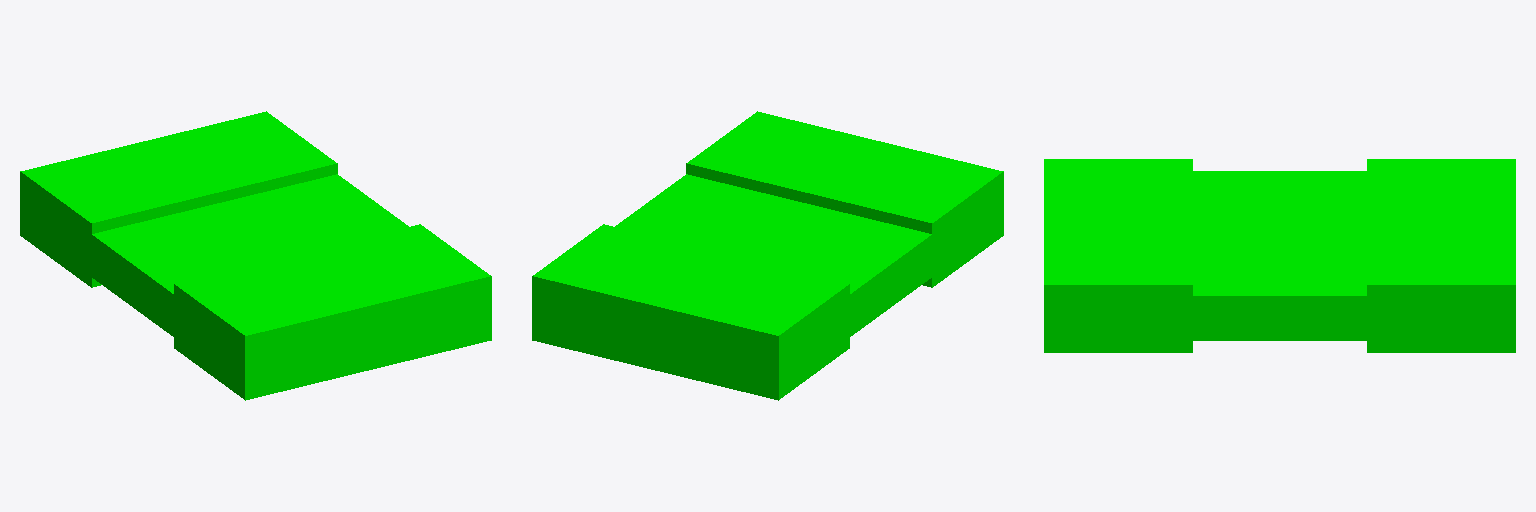
--- Facts derived from the render (not from the file) ---
Views: 3 orthographic renders of the robot side by side, from view 1: azimuth 30°, elevation 25°; view 2: azimuth 150°, elevation 25°; view 3: azimuth 270°, elevation 25°.
Model robot with 29 links and 28 joints (28 revolute), rooted at root, posed all joints at 0.
Links seen in each view (by area): view 1: 000, 000-121, 020-121, 030-121, 010-121, 010, 030, 020, 000-100, 000-110, 000-120, 000-101 (+16 smaller); view 2: 000, 000-120, 020-120, 030-120, 010-120, 010, 030, 020, 000-101, 000-100, 000-110, 000-111 (+16 smaller); view 3: 030, 010, 000, 020, 030-110, 030-120, 030-111, 030-121, 030-100, 030-101, 020-110, 020-120 (+16 smaller).
Link boxes in pixels (x1,y1,x2,y2): 000: (92, 219, 223, 336); 000-121: (222, 304, 306, 400); 020-121: (346, 274, 429, 370); 030-121: (407, 259, 491, 354); 010-121: (284, 289, 367, 384); 010: (153, 204, 285, 271); 030: (276, 174, 408, 241); 020: (215, 189, 347, 256); 000-100: (68, 191, 152, 287); 000-110: (44, 174, 127, 269); 000-120: (20, 157, 104, 252); 000-101: (174, 269, 259, 364); 000: (800, 219, 931, 336); 000-120: (717, 304, 801, 400); 020-120: (594, 274, 677, 370); 030-120: (532, 259, 616, 354); 010-120: (656, 289, 739, 384); 010: (738, 204, 870, 271); 030: (615, 174, 747, 241); 020: (676, 189, 808, 256); 000-101: (871, 191, 955, 287); 000-100: (764, 269, 849, 364); 000-110: (741, 287, 825, 382); 000-111: (896, 174, 979, 269); 030: (1193, 265, 1366, 340); 010: (1193, 202, 1366, 233); 000: (1193, 171, 1366, 201); 020: (1193, 234, 1366, 264); 030-110: (1416, 254, 1465, 352); 030-120: (1466, 254, 1515, 352); 030-111: (1094, 254, 1143, 352); 030-121: (1044, 254, 1093, 352); 030-100: (1367, 254, 1415, 352); 030-101: (1144, 254, 1192, 352); 020-110: (1416, 222, 1465, 253); 020-120: (1466, 222, 1515, 253).
Bounding box of the posed robot: 1.2 × 1.9 × 0.3 m (x, y, z).
Geometry: primitives only (box / cylinder / sphere), no mesh files.

robot.urdf — robot:
<robot name = "robot">
    <link name="root">
        <inertial>
            <origin xyz="0.0 0.0 1.5" rpy="0 0 0"/>
            <mass value="1" />
            <inertia ixx="100" ixy="0" ixz="0" iyy="100" iyz="0" izz="100" />
        </inertial>
        <visual>
            <origin xyz="0.0 0.0 1.5" rpy="0 0 0"/>
            <geometry>
                <box size="0 0 0.0001" />
            </geometry>
            <material name="Green">
                <color rgba="0 1.0 0.0 1.0"/>
            </material>
        </visual>
        <collision>
            <origin xyz="0.0 0.0 1.5" rpy="0 0 0"/>
            <geometry>
                <box size="0 0 0.0001" />
            </geometry>
        </collision>
    </link>
    <joint name="root_000" type="revolute">
       <parent link="root"/>
       <child  link="000"/>
       <origin rpy="0 0 0" xyz="0.0 0.0 1.5" />
     <axis xyz="1 0 0"/>
       <limit effort="0.0" lower="-3.14159" upper="3.14159" velocity="0.0"/>
    </joint>
    <link name="000">
        <inertial>
            <origin xyz="0.15 0.0 0.0" rpy="0 0 0"/>
            <mass value="1" />
            <inertia ixx="100" ixy="0" ixz="0" iyy="100" iyz="0" izz="100" />
        </inertial>
        <visual>
            <origin xyz="0.15 0.0 0.0" rpy="0 0 0"/>
            <geometry>
                <box size="0.3 0.7 0.2" />
            </geometry>
            <material name="Green">
                <color rgba="0 1.0 0.0 1.0"/>
            </material>
        </visual>
        <collision>
            <origin xyz="0.15 0.0 0.0" rpy="0 0 0"/>
            <geometry>
                <box size="0.3 0.7 0.2" />
            </geometry>
        </collision>
    </link>
    <joint name="000_010" type="revolute">
       <parent link="000"/>
       <child  link="010"/>
       <origin rpy="0 0 0" xyz="0.3 0.0 -0.0" />
     <axis xyz="1 0 0"/>
       <limit effort="0.0" lower="-3.14159" upper="3.14159" velocity="0.0"/>
    </joint>
    <link name="010">
        <inertial>
            <origin xyz="0.15 0.0 -0.0" rpy="0 0 0"/>
            <mass value="1" />
            <inertia ixx="100" ixy="0" ixz="0" iyy="100" iyz="0" izz="100" />
        </inertial>
        <visual>
            <origin xyz="0.15 0.0 -0.0" rpy="0 0 0"/>
            <geometry>
                <box size="0.3 0.7 0.2" />
            </geometry>
            <material name="Green">
                <color rgba="0 1.0 0.0 1.0"/>
            </material>
        </visual>
        <collision>
            <origin xyz="0.15 0.0 -0.0" rpy="0 0 0"/>
            <geometry>
                <box size="0.3 0.7 0.2" />
            </geometry>
        </collision>
    </link>
    <joint name="010_020" type="revolute">
       <parent link="010"/>
       <child  link="020"/>
       <origin rpy="0 0 0" xyz="0.3 0.0 -0.0" />
     <axis xyz="1 0 0"/>
       <limit effort="0.0" lower="-3.14159" upper="3.14159" velocity="0.0"/>
    </joint>
    <link name="020">
        <inertial>
            <origin xyz="0.15 0.0 -0.0" rpy="0 0 0"/>
            <mass value="1" />
            <inertia ixx="100" ixy="0" ixz="0" iyy="100" iyz="0" izz="100" />
        </inertial>
        <visual>
            <origin xyz="0.15 0.0 -0.0" rpy="0 0 0"/>
            <geometry>
                <box size="0.3 0.7 0.2" />
            </geometry>
            <material name="Green">
                <color rgba="0 1.0 0.0 1.0"/>
            </material>
        </visual>
        <collision>
            <origin xyz="0.15 0.0 -0.0" rpy="0 0 0"/>
            <geometry>
                <box size="0.3 0.7 0.2" />
            </geometry>
        </collision>
    </link>
    <joint name="020_030" type="revolute">
       <parent link="020"/>
       <child  link="030"/>
       <origin rpy="0 0 0" xyz="0.3 0.0 -0.0" />
     <axis xyz="1 0 0"/>
       <limit effort="0.0" lower="-3.14159" upper="3.14159" velocity="0.0"/>
    </joint>
    <link name="030">
        <inertial>
            <origin xyz="0.15 0.0 -0.0" rpy="0 0 0"/>
            <mass value="1" />
            <inertia ixx="100" ixy="0" ixz="0" iyy="100" iyz="0" izz="100" />
        </inertial>
        <visual>
            <origin xyz="0.15 0.0 -0.0" rpy="0 0 0"/>
            <geometry>
                <box size="0.3 0.7 0.2" />
            </geometry>
            <material name="Green">
                <color rgba="0 1.0 0.0 1.0"/>
            </material>
        </visual>
        <collision>
            <origin xyz="0.15 0.0 -0.0" rpy="0 0 0"/>
            <geometry>
                <box size="0.3 0.7 0.2" />
            </geometry>
        </collision>
    </link>
    <joint name="030_030-100" type="revolute">
       <parent link="030"/>
       <child  link="030-100"/>
       <origin rpy="0 0 0" xyz="0.15 0.35 -0.0" />
     <axis xyz="0 1 0"/>
       <limit effort="0.0" lower="-3.14159" upper="3.14159" velocity="0.0"/>
    </joint>
    <link name="030-100">
        <inertial>
            <origin xyz="0.0 0.1 -0.0" rpy="0 0 0"/>
            <mass value="1" />
            <inertia ixx="100" ixy="0" ixz="0" iyy="100" iyz="0" izz="100" />
        </inertial>
        <visual>
            <origin xyz="0.0 0.1 -0.0" rpy="0 0 0"/>
            <geometry>
                <box size="0.3 0.2 0.3" />
            </geometry>
            <material name="Green">
                <color rgba="0 1.0 0.0 1.0"/>
            </material>
        </visual>
        <collision>
            <origin xyz="0.0 0.1 -0.0" rpy="0 0 0"/>
            <geometry>
                <box size="0.3 0.2 0.3" />
            </geometry>
        </collision>
    </link>
    <joint name="030-100_030-110" type="revolute">
       <parent link="030-100"/>
       <child  link="030-110"/>
       <origin rpy="0 0 0" xyz="0.0 0.2 -0.0" />
     <axis xyz="0 1 0"/>
       <limit effort="0.0" lower="-3.14159" upper="3.14159" velocity="0.0"/>
    </joint>
    <link name="030-110">
        <inertial>
            <origin xyz="0.0 0.1 -0.0" rpy="0 0 0"/>
            <mass value="1" />
            <inertia ixx="100" ixy="0" ixz="0" iyy="100" iyz="0" izz="100" />
        </inertial>
        <visual>
            <origin xyz="0.0 0.1 -0.0" rpy="0 0 0"/>
            <geometry>
                <box size="0.3 0.2 0.3" />
            </geometry>
            <material name="Green">
                <color rgba="0 1.0 0.0 1.0"/>
            </material>
        </visual>
        <collision>
            <origin xyz="0.0 0.1 -0.0" rpy="0 0 0"/>
            <geometry>
                <box size="0.3 0.2 0.3" />
            </geometry>
        </collision>
    </link>
    <joint name="030-110_030-120" type="revolute">
       <parent link="030-110"/>
       <child  link="030-120"/>
       <origin rpy="0 0 0" xyz="0.0 0.2 -0.0" />
     <axis xyz="0 1 0"/>
       <limit effort="0.0" lower="-3.14159" upper="3.14159" velocity="0.0"/>
    </joint>
    <link name="030-120">
        <inertial>
            <origin xyz="0.0 0.1 -0.0" rpy="0 0 0"/>
            <mass value="1" />
            <inertia ixx="100" ixy="0" ixz="0" iyy="100" iyz="0" izz="100" />
        </inertial>
        <visual>
            <origin xyz="0.0 0.1 -0.0" rpy="0 0 0"/>
            <geometry>
                <box size="0.3 0.2 0.3" />
            </geometry>
            <material name="Green">
                <color rgba="0 1.0 0.0 1.0"/>
            </material>
        </visual>
        <collision>
            <origin xyz="0.0 0.1 -0.0" rpy="0 0 0"/>
            <geometry>
                <box size="0.3 0.2 0.3" />
            </geometry>
        </collision>
    </link>
    <joint name="030_030-101" type="revolute">
       <parent link="030"/>
       <child  link="030-101"/>
       <origin rpy="0 0 0" xyz="0.15 -0.35 -0.0" />
     <axis xyz="0 1 0"/>
       <limit effort="0.0" lower="-3.14159" upper="3.14159" velocity="0.0"/>
    </joint>
    <link name="030-101">
        <inertial>
            <origin xyz="0.0 -0.1 -0.0" rpy="0 0 0"/>
            <mass value="1" />
            <inertia ixx="100" ixy="0" ixz="0" iyy="100" iyz="0" izz="100" />
        </inertial>
        <visual>
            <origin xyz="0.0 -0.1 -0.0" rpy="0 0 0"/>
            <geometry>
                <box size="0.3 0.2 0.3" />
            </geometry>
            <material name="Green">
                <color rgba="0 1.0 0.0 1.0"/>
            </material>
        </visual>
        <collision>
            <origin xyz="0.0 -0.1 -0.0" rpy="0 0 0"/>
            <geometry>
                <box size="0.3 0.2 0.3" />
            </geometry>
        </collision>
    </link>
    <joint name="030-101_030-111" type="revolute">
       <parent link="030-101"/>
       <child  link="030-111"/>
       <origin rpy="0 0 0" xyz="0.0 -0.2 -0.0" />
     <axis xyz="0 1 0"/>
       <limit effort="0.0" lower="-3.14159" upper="3.14159" velocity="0.0"/>
    </joint>
    <link name="030-111">
        <inertial>
            <origin xyz="0.0 -0.1 -0.0" rpy="0 0 0"/>
            <mass value="1" />
            <inertia ixx="100" ixy="0" ixz="0" iyy="100" iyz="0" izz="100" />
        </inertial>
        <visual>
            <origin xyz="0.0 -0.1 -0.0" rpy="0 0 0"/>
            <geometry>
                <box size="0.3 0.2 0.3" />
            </geometry>
            <material name="Green">
                <color rgba="0 1.0 0.0 1.0"/>
            </material>
        </visual>
        <collision>
            <origin xyz="0.0 -0.1 -0.0" rpy="0 0 0"/>
            <geometry>
                <box size="0.3 0.2 0.3" />
            </geometry>
        </collision>
    </link>
    <joint name="030-111_030-121" type="revolute">
       <parent link="030-111"/>
       <child  link="030-121"/>
       <origin rpy="0 0 0" xyz="0.0 -0.2 -0.0" />
     <axis xyz="0 1 0"/>
       <limit effort="0.0" lower="-3.14159" upper="3.14159" velocity="0.0"/>
    </joint>
    <link name="030-121">
        <inertial>
            <origin xyz="0.0 -0.1 -0.0" rpy="0 0 0"/>
            <mass value="1" />
            <inertia ixx="100" ixy="0" ixz="0" iyy="100" iyz="0" izz="100" />
        </inertial>
        <visual>
            <origin xyz="0.0 -0.1 -0.0" rpy="0 0 0"/>
            <geometry>
                <box size="0.3 0.2 0.3" />
            </geometry>
            <material name="Green">
                <color rgba="0 1.0 0.0 1.0"/>
            </material>
        </visual>
        <collision>
            <origin xyz="0.0 -0.1 -0.0" rpy="0 0 0"/>
            <geometry>
                <box size="0.3 0.2 0.3" />
            </geometry>
        </collision>
    </link>
    <joint name="020_020-100" type="revolute">
       <parent link="020"/>
       <child  link="020-100"/>
       <origin rpy="0 0 0" xyz="0.15 0.35 -0.0" />
     <axis xyz="0 1 0"/>
       <limit effort="0.0" lower="-3.14159" upper="3.14159" velocity="0.0"/>
    </joint>
    <link name="020-100">
        <inertial>
            <origin xyz="0.0 0.1 -0.0" rpy="0 0 0"/>
            <mass value="1" />
            <inertia ixx="100" ixy="0" ixz="0" iyy="100" iyz="0" izz="100" />
        </inertial>
        <visual>
            <origin xyz="0.0 0.1 -0.0" rpy="0 0 0"/>
            <geometry>
                <box size="0.3 0.2 0.3" />
            </geometry>
            <material name="Green">
                <color rgba="0 1.0 0.0 1.0"/>
            </material>
        </visual>
        <collision>
            <origin xyz="0.0 0.1 -0.0" rpy="0 0 0"/>
            <geometry>
                <box size="0.3 0.2 0.3" />
            </geometry>
        </collision>
    </link>
    <joint name="020-100_020-110" type="revolute">
       <parent link="020-100"/>
       <child  link="020-110"/>
       <origin rpy="0 0 0" xyz="0.0 0.2 -0.0" />
     <axis xyz="0 1 0"/>
       <limit effort="0.0" lower="-3.14159" upper="3.14159" velocity="0.0"/>
    </joint>
    <link name="020-110">
        <inertial>
            <origin xyz="0.0 0.1 -0.0" rpy="0 0 0"/>
            <mass value="1" />
            <inertia ixx="100" ixy="0" ixz="0" iyy="100" iyz="0" izz="100" />
        </inertial>
        <visual>
            <origin xyz="0.0 0.1 -0.0" rpy="0 0 0"/>
            <geometry>
                <box size="0.3 0.2 0.3" />
            </geometry>
            <material name="Green">
                <color rgba="0 1.0 0.0 1.0"/>
            </material>
        </visual>
        <collision>
            <origin xyz="0.0 0.1 -0.0" rpy="0 0 0"/>
            <geometry>
                <box size="0.3 0.2 0.3" />
            </geometry>
        </collision>
    </link>
    <joint name="020-110_020-120" type="revolute">
       <parent link="020-110"/>
       <child  link="020-120"/>
       <origin rpy="0 0 0" xyz="0.0 0.2 -0.0" />
     <axis xyz="0 1 0"/>
       <limit effort="0.0" lower="-3.14159" upper="3.14159" velocity="0.0"/>
    </joint>
    <link name="020-120">
        <inertial>
            <origin xyz="0.0 0.1 -0.0" rpy="0 0 0"/>
            <mass value="1" />
            <inertia ixx="100" ixy="0" ixz="0" iyy="100" iyz="0" izz="100" />
        </inertial>
        <visual>
            <origin xyz="0.0 0.1 -0.0" rpy="0 0 0"/>
            <geometry>
                <box size="0.3 0.2 0.3" />
            </geometry>
            <material name="Green">
                <color rgba="0 1.0 0.0 1.0"/>
            </material>
        </visual>
        <collision>
            <origin xyz="0.0 0.1 -0.0" rpy="0 0 0"/>
            <geometry>
                <box size="0.3 0.2 0.3" />
            </geometry>
        </collision>
    </link>
    <joint name="020_020-101" type="revolute">
       <parent link="020"/>
       <child  link="020-101"/>
       <origin rpy="0 0 0" xyz="0.15 -0.35 -0.0" />
     <axis xyz="0 1 0"/>
       <limit effort="0.0" lower="-3.14159" upper="3.14159" velocity="0.0"/>
    </joint>
    <link name="020-101">
        <inertial>
            <origin xyz="0.0 -0.1 -0.0" rpy="0 0 0"/>
            <mass value="1" />
            <inertia ixx="100" ixy="0" ixz="0" iyy="100" iyz="0" izz="100" />
        </inertial>
        <visual>
            <origin xyz="0.0 -0.1 -0.0" rpy="0 0 0"/>
            <geometry>
                <box size="0.3 0.2 0.3" />
            </geometry>
            <material name="Green">
                <color rgba="0 1.0 0.0 1.0"/>
            </material>
        </visual>
        <collision>
            <origin xyz="0.0 -0.1 -0.0" rpy="0 0 0"/>
            <geometry>
                <box size="0.3 0.2 0.3" />
            </geometry>
        </collision>
    </link>
    <joint name="020-101_020-111" type="revolute">
       <parent link="020-101"/>
       <child  link="020-111"/>
       <origin rpy="0 0 0" xyz="0.0 -0.2 -0.0" />
     <axis xyz="0 1 0"/>
       <limit effort="0.0" lower="-3.14159" upper="3.14159" velocity="0.0"/>
    </joint>
    <link name="020-111">
        <inertial>
            <origin xyz="0.0 -0.1 -0.0" rpy="0 0 0"/>
            <mass value="1" />
            <inertia ixx="100" ixy="0" ixz="0" iyy="100" iyz="0" izz="100" />
        </inertial>
        <visual>
            <origin xyz="0.0 -0.1 -0.0" rpy="0 0 0"/>
            <geometry>
                <box size="0.3 0.2 0.3" />
            </geometry>
            <material name="Green">
                <color rgba="0 1.0 0.0 1.0"/>
            </material>
        </visual>
        <collision>
            <origin xyz="0.0 -0.1 -0.0" rpy="0 0 0"/>
            <geometry>
                <box size="0.3 0.2 0.3" />
            </geometry>
        </collision>
    </link>
    <joint name="020-111_020-121" type="revolute">
       <parent link="020-111"/>
       <child  link="020-121"/>
       <origin rpy="0 0 0" xyz="0.0 -0.2 -0.0" />
     <axis xyz="0 1 0"/>
       <limit effort="0.0" lower="-3.14159" upper="3.14159" velocity="0.0"/>
    </joint>
    <link name="020-121">
        <inertial>
            <origin xyz="0.0 -0.1 -0.0" rpy="0 0 0"/>
            <mass value="1" />
            <inertia ixx="100" ixy="0" ixz="0" iyy="100" iyz="0" izz="100" />
        </inertial>
        <visual>
            <origin xyz="0.0 -0.1 -0.0" rpy="0 0 0"/>
            <geometry>
                <box size="0.3 0.2 0.3" />
            </geometry>
            <material name="Green">
                <color rgba="0 1.0 0.0 1.0"/>
            </material>
        </visual>
        <collision>
            <origin xyz="0.0 -0.1 -0.0" rpy="0 0 0"/>
            <geometry>
                <box size="0.3 0.2 0.3" />
            </geometry>
        </collision>
    </link>
    <joint name="010_010-100" type="revolute">
       <parent link="010"/>
       <child  link="010-100"/>
       <origin rpy="0 0 0" xyz="0.15 0.35 -0.0" />
     <axis xyz="0 1 0"/>
       <limit effort="0.0" lower="-3.14159" upper="3.14159" velocity="0.0"/>
    </joint>
    <link name="010-100">
        <inertial>
            <origin xyz="0.0 0.1 -0.0" rpy="0 0 0"/>
            <mass value="1" />
            <inertia ixx="100" ixy="0" ixz="0" iyy="100" iyz="0" izz="100" />
        </inertial>
        <visual>
            <origin xyz="0.0 0.1 -0.0" rpy="0 0 0"/>
            <geometry>
                <box size="0.3 0.2 0.3" />
            </geometry>
            <material name="Green">
                <color rgba="0 1.0 0.0 1.0"/>
            </material>
        </visual>
        <collision>
            <origin xyz="0.0 0.1 -0.0" rpy="0 0 0"/>
            <geometry>
                <box size="0.3 0.2 0.3" />
            </geometry>
        </collision>
    </link>
    <joint name="010-100_010-110" type="revolute">
       <parent link="010-100"/>
       <child  link="010-110"/>
       <origin rpy="0 0 0" xyz="0.0 0.2 -0.0" />
     <axis xyz="0 1 0"/>
       <limit effort="0.0" lower="-3.14159" upper="3.14159" velocity="0.0"/>
    </joint>
    <link name="010-110">
        <inertial>
            <origin xyz="0.0 0.1 -0.0" rpy="0 0 0"/>
            <mass value="1" />
            <inertia ixx="100" ixy="0" ixz="0" iyy="100" iyz="0" izz="100" />
        </inertial>
        <visual>
            <origin xyz="0.0 0.1 -0.0" rpy="0 0 0"/>
            <geometry>
                <box size="0.3 0.2 0.3" />
            </geometry>
            <material name="Green">
                <color rgba="0 1.0 0.0 1.0"/>
            </material>
        </visual>
        <collision>
            <origin xyz="0.0 0.1 -0.0" rpy="0 0 0"/>
            <geometry>
                <box size="0.3 0.2 0.3" />
            </geometry>
        </collision>
    </link>
    <joint name="010-110_010-120" type="revolute">
       <parent link="010-110"/>
       <child  link="010-120"/>
       <origin rpy="0 0 0" xyz="0.0 0.2 -0.0" />
     <axis xyz="0 1 0"/>
       <limit effort="0.0" lower="-3.14159" upper="3.14159" velocity="0.0"/>
    </joint>
    <link name="010-120">
        <inertial>
            <origin xyz="0.0 0.1 -0.0" rpy="0 0 0"/>
            <mass value="1" />
            <inertia ixx="100" ixy="0" ixz="0" iyy="100" iyz="0" izz="100" />
        </inertial>
        <visual>
            <origin xyz="0.0 0.1 -0.0" rpy="0 0 0"/>
            <geometry>
                <box size="0.3 0.2 0.3" />
            </geometry>
            <material name="Green">
                <color rgba="0 1.0 0.0 1.0"/>
            </material>
        </visual>
        <collision>
            <origin xyz="0.0 0.1 -0.0" rpy="0 0 0"/>
            <geometry>
                <box size="0.3 0.2 0.3" />
            </geometry>
        </collision>
    </link>
    <joint name="010_010-101" type="revolute">
       <parent link="010"/>
       <child  link="010-101"/>
       <origin rpy="0 0 0" xyz="0.15 -0.35 -0.0" />
     <axis xyz="0 1 0"/>
       <limit effort="0.0" lower="-3.14159" upper="3.14159" velocity="0.0"/>
    </joint>
    <link name="010-101">
        <inertial>
            <origin xyz="0.0 -0.1 -0.0" rpy="0 0 0"/>
            <mass value="1" />
            <inertia ixx="100" ixy="0" ixz="0" iyy="100" iyz="0" izz="100" />
        </inertial>
        <visual>
            <origin xyz="0.0 -0.1 -0.0" rpy="0 0 0"/>
            <geometry>
                <box size="0.3 0.2 0.3" />
            </geometry>
            <material name="Green">
                <color rgba="0 1.0 0.0 1.0"/>
            </material>
        </visual>
        <collision>
            <origin xyz="0.0 -0.1 -0.0" rpy="0 0 0"/>
            <geometry>
                <box size="0.3 0.2 0.3" />
            </geometry>
        </collision>
    </link>
    <joint name="010-101_010-111" type="revolute">
       <parent link="010-101"/>
       <child  link="010-111"/>
       <origin rpy="0 0 0" xyz="0.0 -0.2 -0.0" />
     <axis xyz="0 1 0"/>
       <limit effort="0.0" lower="-3.14159" upper="3.14159" velocity="0.0"/>
    </joint>
    <link name="010-111">
        <inertial>
            <origin xyz="0.0 -0.1 -0.0" rpy="0 0 0"/>
            <mass value="1" />
            <inertia ixx="100" ixy="0" ixz="0" iyy="100" iyz="0" izz="100" />
        </inertial>
        <visual>
            <origin xyz="0.0 -0.1 -0.0" rpy="0 0 0"/>
            <geometry>
                <box size="0.3 0.2 0.3" />
            </geometry>
            <material name="Green">
                <color rgba="0 1.0 0.0 1.0"/>
            </material>
        </visual>
        <collision>
            <origin xyz="0.0 -0.1 -0.0" rpy="0 0 0"/>
            <geometry>
                <box size="0.3 0.2 0.3" />
            </geometry>
        </collision>
    </link>
    <joint name="010-111_010-121" type="revolute">
       <parent link="010-111"/>
       <child  link="010-121"/>
       <origin rpy="0 0 0" xyz="0.0 -0.2 -0.0" />
     <axis xyz="0 1 0"/>
       <limit effort="0.0" lower="-3.14159" upper="3.14159" velocity="0.0"/>
    </joint>
    <link name="010-121">
        <inertial>
            <origin xyz="0.0 -0.1 -0.0" rpy="0 0 0"/>
            <mass value="1" />
            <inertia ixx="100" ixy="0" ixz="0" iyy="100" iyz="0" izz="100" />
        </inertial>
        <visual>
            <origin xyz="0.0 -0.1 -0.0" rpy="0 0 0"/>
            <geometry>
                <box size="0.3 0.2 0.3" />
            </geometry>
            <material name="Green">
                <color rgba="0 1.0 0.0 1.0"/>
            </material>
        </visual>
        <collision>
            <origin xyz="0.0 -0.1 -0.0" rpy="0 0 0"/>
            <geometry>
                <box size="0.3 0.2 0.3" />
            </geometry>
        </collision>
    </link>
    <joint name="000_000-100" type="revolute">
       <parent link="000"/>
       <child  link="000-100"/>
       <origin rpy="0 0 0" xyz="0.15 0.35 -0.0" />
     <axis xyz="0 1 0"/>
       <limit effort="0.0" lower="-3.14159" upper="3.14159" velocity="0.0"/>
    </joint>
    <link name="000-100">
        <inertial>
            <origin xyz="0.0 0.1 -0.0" rpy="0 0 0"/>
            <mass value="1" />
            <inertia ixx="100" ixy="0" ixz="0" iyy="100" iyz="0" izz="100" />
        </inertial>
        <visual>
            <origin xyz="0.0 0.1 -0.0" rpy="0 0 0"/>
            <geometry>
                <box size="0.3 0.2 0.3" />
            </geometry>
            <material name="Green">
                <color rgba="0 1.0 0.0 1.0"/>
            </material>
        </visual>
        <collision>
            <origin xyz="0.0 0.1 -0.0" rpy="0 0 0"/>
            <geometry>
                <box size="0.3 0.2 0.3" />
            </geometry>
        </collision>
    </link>
    <joint name="000-100_000-110" type="revolute">
       <parent link="000-100"/>
       <child  link="000-110"/>
       <origin rpy="0 0 0" xyz="0.0 0.2 -0.0" />
     <axis xyz="0 1 0"/>
       <limit effort="0.0" lower="-3.14159" upper="3.14159" velocity="0.0"/>
    </joint>
    <link name="000-110">
        <inertial>
            <origin xyz="0.0 0.1 -0.0" rpy="0 0 0"/>
            <mass value="1" />
            <inertia ixx="100" ixy="0" ixz="0" iyy="100" iyz="0" izz="100" />
        </inertial>
        <visual>
            <origin xyz="0.0 0.1 -0.0" rpy="0 0 0"/>
            <geometry>
                <box size="0.3 0.2 0.3" />
            </geometry>
            <material name="Green">
                <color rgba="0 1.0 0.0 1.0"/>
            </material>
        </visual>
        <collision>
            <origin xyz="0.0 0.1 -0.0" rpy="0 0 0"/>
            <geometry>
                <box size="0.3 0.2 0.3" />
            </geometry>
        </collision>
    </link>
    <joint name="000-110_000-120" type="revolute">
       <parent link="000-110"/>
       <child  link="000-120"/>
       <origin rpy="0 0 0" xyz="0.0 0.2 -0.0" />
     <axis xyz="0 1 0"/>
       <limit effort="0.0" lower="-3.14159" upper="3.14159" velocity="0.0"/>
    </joint>
    <link name="000-120">
        <inertial>
            <origin xyz="0.0 0.1 -0.0" rpy="0 0 0"/>
            <mass value="1" />
            <inertia ixx="100" ixy="0" ixz="0" iyy="100" iyz="0" izz="100" />
        </inertial>
        <visual>
            <origin xyz="0.0 0.1 -0.0" rpy="0 0 0"/>
            <geometry>
                <box size="0.3 0.2 0.3" />
            </geometry>
            <material name="Green">
                <color rgba="0 1.0 0.0 1.0"/>
            </material>
        </visual>
        <collision>
            <origin xyz="0.0 0.1 -0.0" rpy="0 0 0"/>
            <geometry>
                <box size="0.3 0.2 0.3" />
            </geometry>
        </collision>
    </link>
    <joint name="000_000-101" type="revolute">
       <parent link="000"/>
       <child  link="000-101"/>
       <origin rpy="0 0 0" xyz="0.15 -0.35 -0.0" />
     <axis xyz="0 1 0"/>
       <limit effort="0.0" lower="-3.14159" upper="3.14159" velocity="0.0"/>
    </joint>
    <link name="000-101">
        <inertial>
            <origin xyz="0.0 -0.1 -0.0" rpy="0 0 0"/>
            <mass value="1" />
            <inertia ixx="100" ixy="0" ixz="0" iyy="100" iyz="0" izz="100" />
        </inertial>
        <visual>
            <origin xyz="0.0 -0.1 -0.0" rpy="0 0 0"/>
            <geometry>
                <box size="0.3 0.2 0.3" />
            </geometry>
            <material name="Green">
                <color rgba="0 1.0 0.0 1.0"/>
            </material>
        </visual>
        <collision>
            <origin xyz="0.0 -0.1 -0.0" rpy="0 0 0"/>
            <geometry>
                <box size="0.3 0.2 0.3" />
            </geometry>
        </collision>
    </link>
    <joint name="000-101_000-111" type="revolute">
       <parent link="000-101"/>
       <child  link="000-111"/>
       <origin rpy="0 0 0" xyz="0.0 -0.2 -0.0" />
     <axis xyz="0 1 0"/>
       <limit effort="0.0" lower="-3.14159" upper="3.14159" velocity="0.0"/>
    </joint>
    <link name="000-111">
        <inertial>
            <origin xyz="0.0 -0.1 -0.0" rpy="0 0 0"/>
            <mass value="1" />
            <inertia ixx="100" ixy="0" ixz="0" iyy="100" iyz="0" izz="100" />
        </inertial>
        <visual>
            <origin xyz="0.0 -0.1 -0.0" rpy="0 0 0"/>
            <geometry>
                <box size="0.3 0.2 0.3" />
            </geometry>
            <material name="Green">
                <color rgba="0 1.0 0.0 1.0"/>
            </material>
        </visual>
        <collision>
            <origin xyz="0.0 -0.1 -0.0" rpy="0 0 0"/>
            <geometry>
                <box size="0.3 0.2 0.3" />
            </geometry>
        </collision>
    </link>
    <joint name="000-111_000-121" type="revolute">
       <parent link="000-111"/>
       <child  link="000-121"/>
       <origin rpy="0 0 0" xyz="0.0 -0.2 -0.0" />
     <axis xyz="0 1 0"/>
       <limit effort="0.0" lower="-3.14159" upper="3.14159" velocity="0.0"/>
    </joint>
    <link name="000-121">
        <inertial>
            <origin xyz="0.0 -0.1 -0.0" rpy="0 0 0"/>
            <mass value="1" />
            <inertia ixx="100" ixy="0" ixz="0" iyy="100" iyz="0" izz="100" />
        </inertial>
        <visual>
            <origin xyz="0.0 -0.1 -0.0" rpy="0 0 0"/>
            <geometry>
                <box size="0.3 0.2 0.3" />
            </geometry>
            <material name="Green">
                <color rgba="0 1.0 0.0 1.0"/>
            </material>
        </visual>
        <collision>
            <origin xyz="0.0 -0.1 -0.0" rpy="0 0 0"/>
            <geometry>
                <box size="0.3 0.2 0.3" />
            </geometry>
        </collision>
    </link>
</robot>
